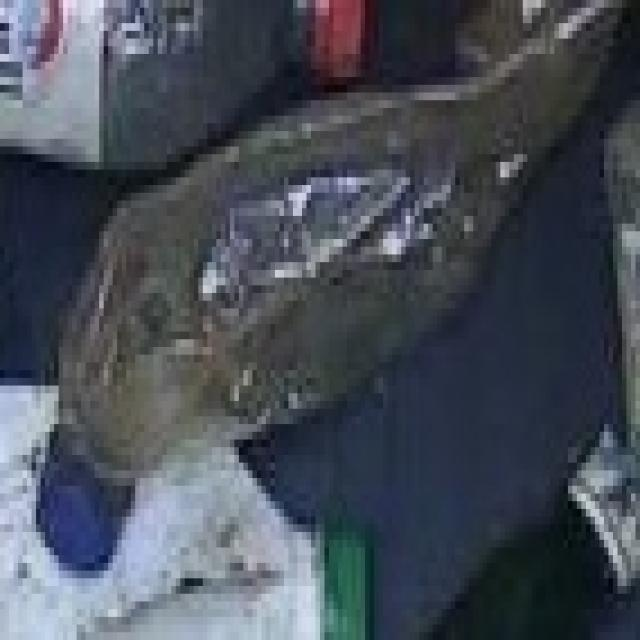plasticbottle: (34, 22, 621, 578), (0, 354, 374, 640), (0, 0, 395, 182)
